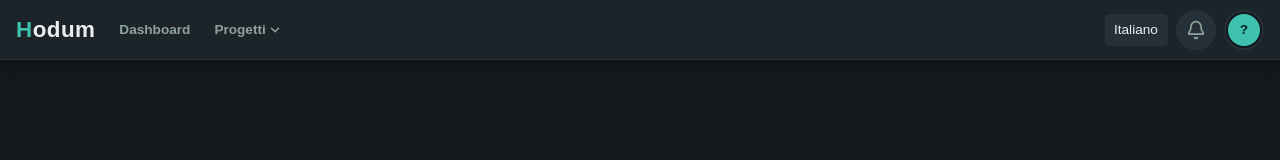
it: TopbarComponent › toggles the menu closed when the account button is clicked again
The image size is (1280, 160).
Click the button named "Menu account".
click(1244, 30)  # box [1224,10,1264,50]
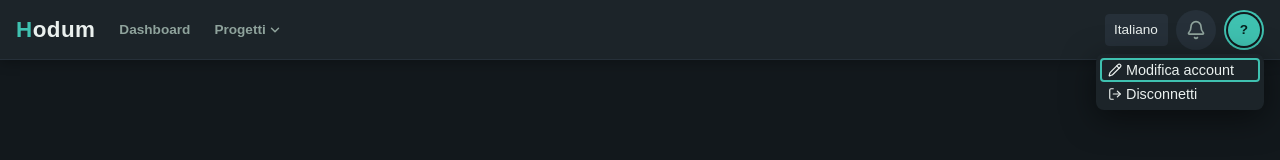
Check: the menu is shown, box [1096,54,1264,110]
Click the button named "Menu account".
click(1244, 30)  # box [1224,10,1264,50]
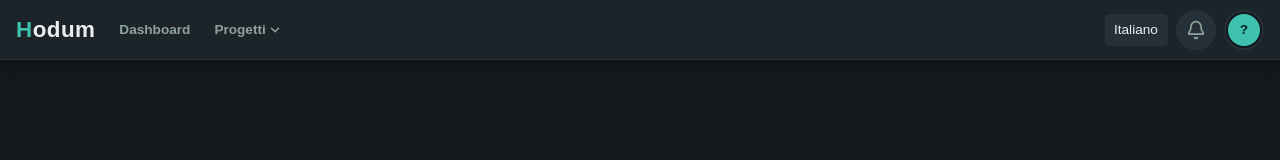
Check: the menu is gone
